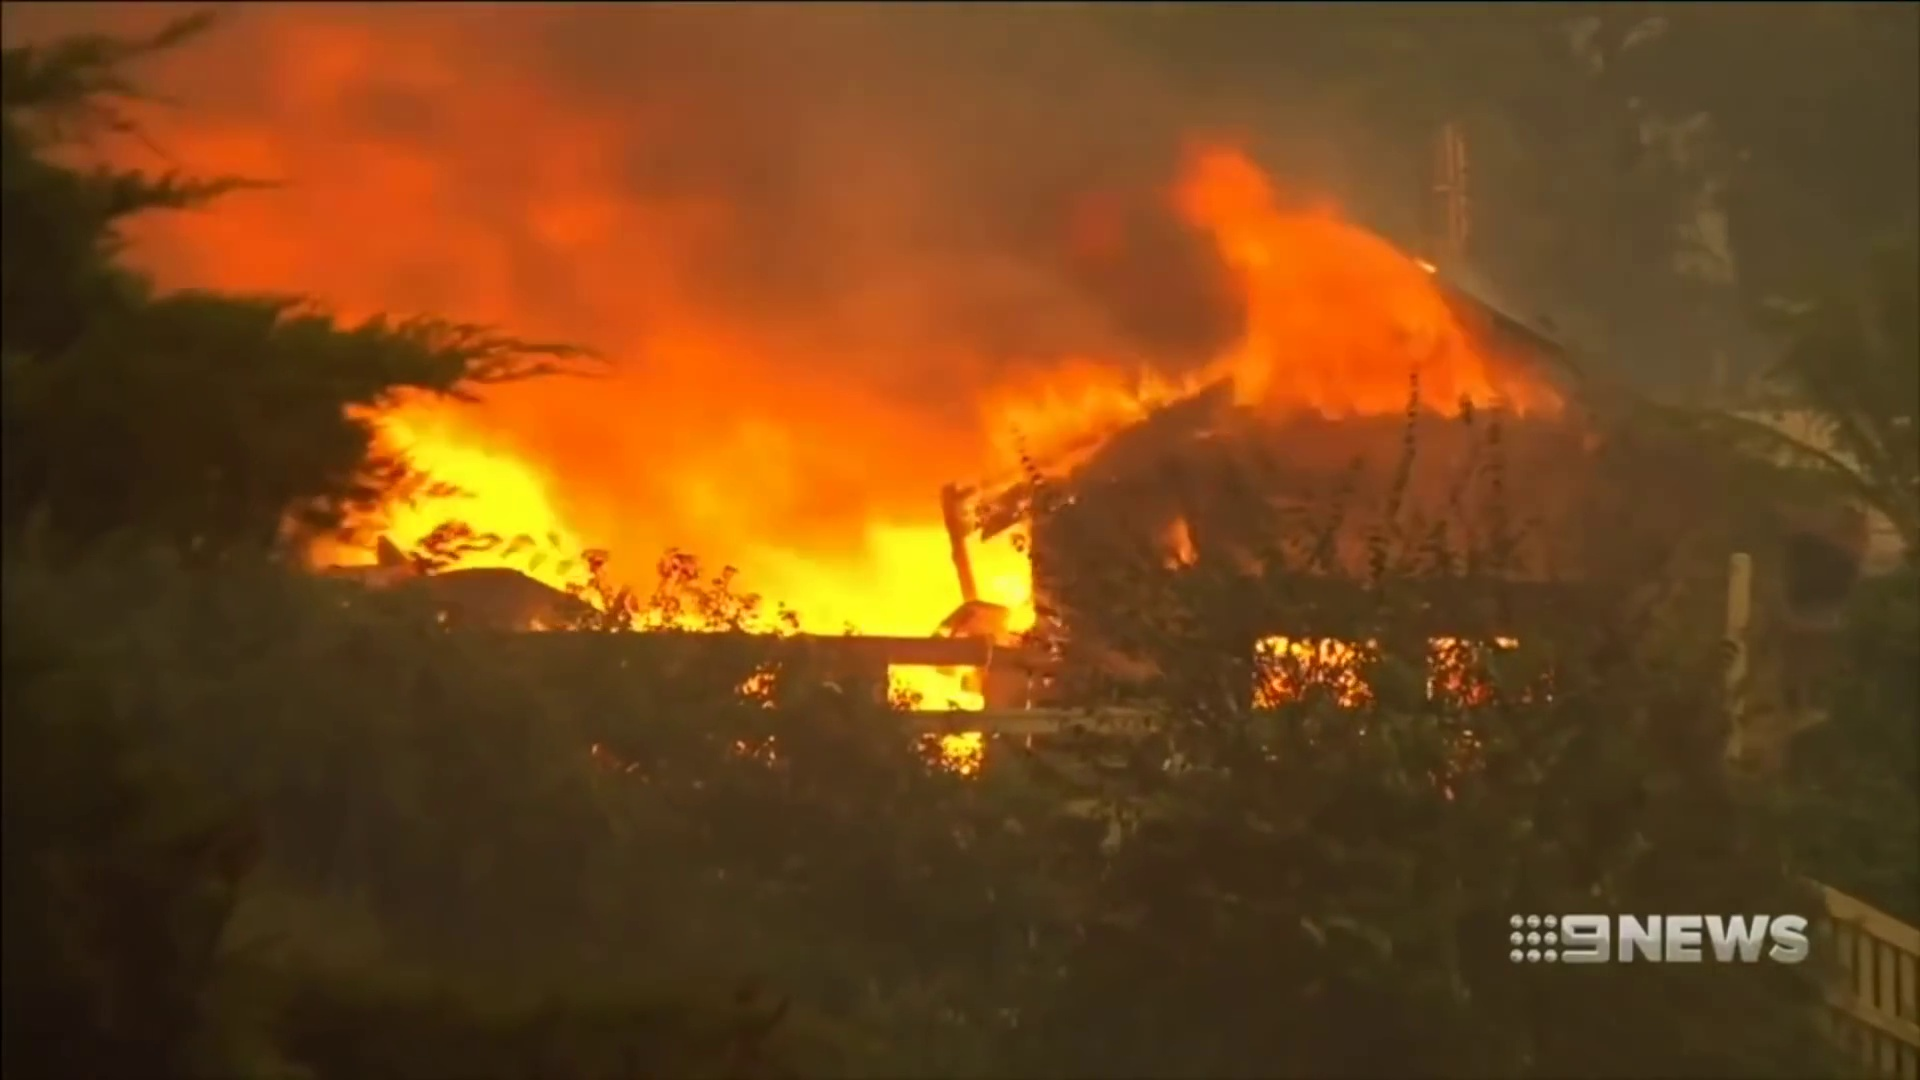fire: (1261, 632, 1356, 688), (895, 666, 975, 712), (942, 731, 978, 767)
